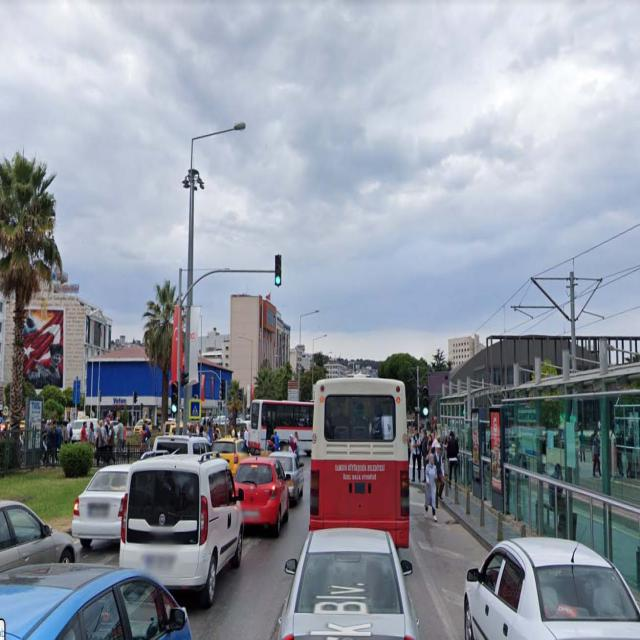yesil: (422, 384, 429, 417), (171, 381, 177, 414), (276, 254, 282, 285)
